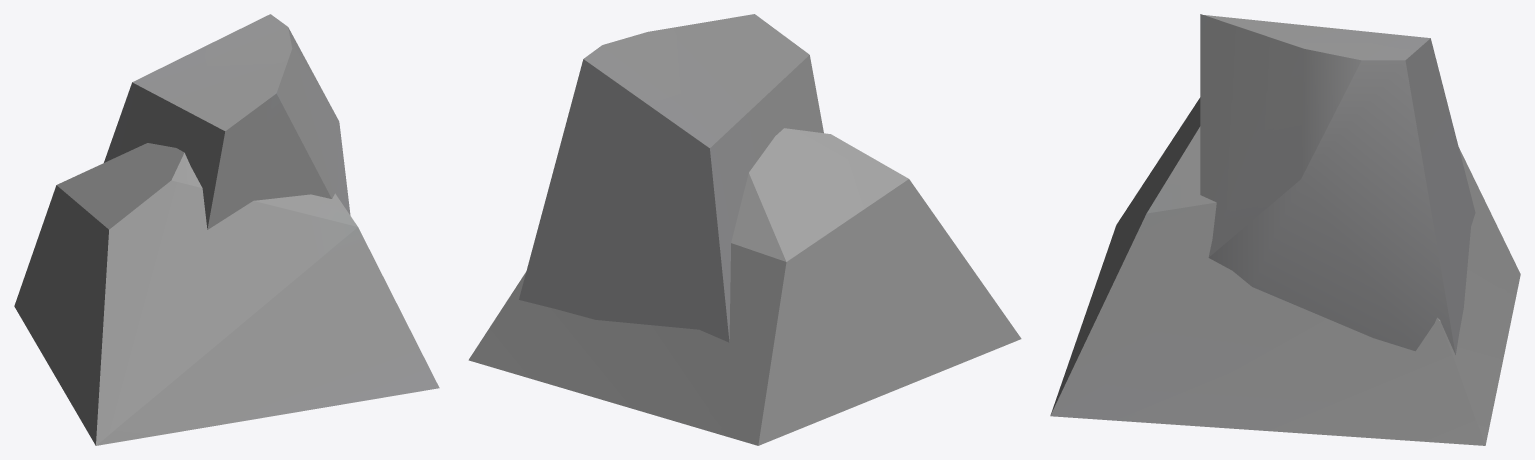
3 renders of one model, left to right at view 1: azimuth 30°, elevation 25°; view 2: azimuth 150°, elevation 25°; view 3: azimuth 270°, elevation 25°, orthographic. The views are drawn at different scales.
Visible parts, largest first — view 1: Da2, Da; view 2: Da2, Da; view 3: Da, Da2.
Part boxes in pixels (x1=…): Da2: x1=14, y1=143, x2=439, y2=445; Da: x1=104, y1=14, x2=350, y2=229; Da2: x1=468, y1=128, x2=1021, y2=445; Da: x1=519, y1=14, x2=823, y2=342; Da: x1=1200, y1=14, x2=1475, y2=354; Da2: x1=1050, y1=97, x2=1520, y2=445.
Bounding box in the file's own units: 369 × 265 × 332.
